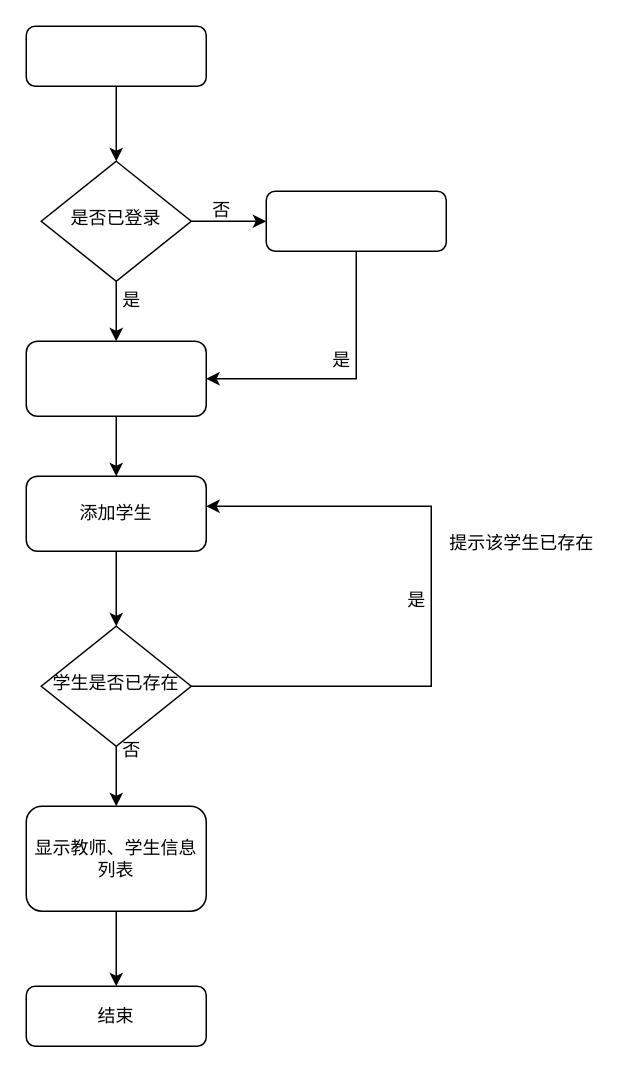
The diagram is 638 pixels wide and 1073 high, and some of its shapes have lost their labels. Here are the shapes that lost their labels. From the top down, the box of each, then its label:
(25, 25, 206, 86): 开始
(265, 190, 446, 251): 登录
(25, 340, 206, 416): 展示所有学生列表
